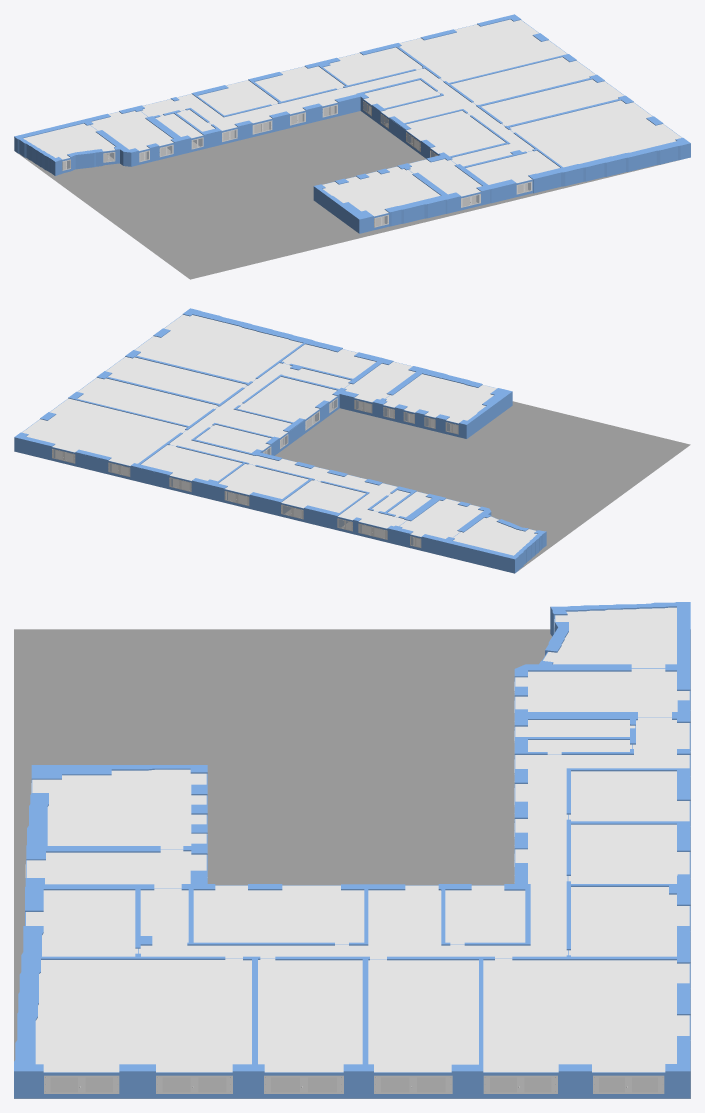
File: 6thfloor.obj
3 renders of one model, top to bottom at view 1: azimuth 30°, elevation 25°; view 2: azimuth 150°, elevation 25°; view 3: azimuth 270°, elevation 25°, orthographic. The views are drawn at different scales.
Parts seen in each view (by area): view 1: ground_1, room_417_2495, room_428_2517, room_423_2507, room_424_2509, room_431_2523, room_427_2515, room_426_2513, room_422_2505, room_434_2527, room_421_2503, room_416_2493 (+15 smaller); view 2: ground_1, room_417_2495, room_428_2517, room_423_2507, room_424_2509, room_431_2523, room_427_2515, room_426_2513, room_422_2505, room_434_2527, room_421_2503, room_416_2493 (+23 smaller); view 3: ground_1, room_417_2495, room_428_2517, room_423_2507, room_424_2509, room_427_2515, room_431_2523, room_426_2513, room_422_2505, room_434_2527, room_421_2503, room_416_2493 (+33 smaller).
Part boxes in pixels (<box>): ground_1: <box>18,111,679,279</box>; room_417_2495: <box>141,68,534,166</box>; room_428_2517: <box>510,100,681,167</box>; room_423_2507: <box>399,19,566,82</box>; room_424_2509: <box>451,57,595,104</box>; room_431_2523: <box>322,166,440,216</box>; room_427_2515: <box>481,79,624,125</box>; room_426_2513: <box>406,110,505,156</box>; room_422_2505: <box>323,47,422,85</box>; room_434_2527: <box>91,111,173,150</box>; room_421_2503: <box>255,66,344,101</box>; room_416_2493: <box>23,123,115,159</box>; ground_1: <box>275,401,690,570</box>; room_417_2495: <box>170,363,406,528</box>; room_428_2517: <box>135,314,302,382</box>; room_423_2507: <box>22,398,186,465</box>; room_424_2509: <box>77,377,217,425</box>; room_431_2523: <box>383,374,496,423</box>; room_427_2515: <box>106,357,246,403</box>; room_426_2513: <box>237,377,336,422</box>; room_422_2505: <box>141,445,242,481</box>; room_434_2527: <box>399,498,483,538</box>; room_421_2503: <box>218,464,308,498</box>; room_416_2493: <box>453,516,536,555</box>; ground_1: <box>14,629,690,1098</box>; room_417_2495: <box>139,717,689,958</box>; room_428_2517: <box>35,959,251,1072</box>; room_423_2507: <box>483,959,689,1072</box>; room_424_2509: <box>368,959,478,1072</box>; room_427_2515: <box>258,959,362,1072</box>; room_431_2523: <box>32,769,206,848</box>; room_426_2513: <box>193,885,364,944</box>; room_422_2505: <box>569,887,689,956</box>; room_434_2527: <box>515,668,689,716</box>; room_421_2503: <box>568,824,689,883</box>; room_416_2493: <box>543,607,676,667</box>.
Bounding box in the file's own units: 9625 × 262 × 5865.
